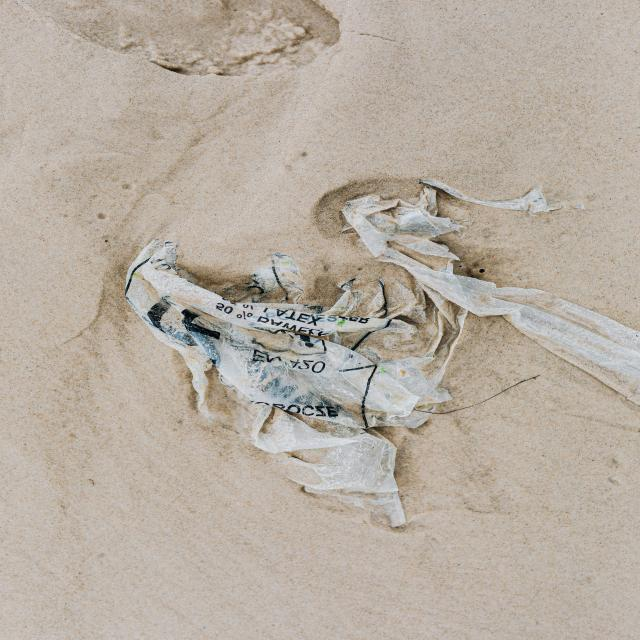plastic: (184, 294, 412, 431)
